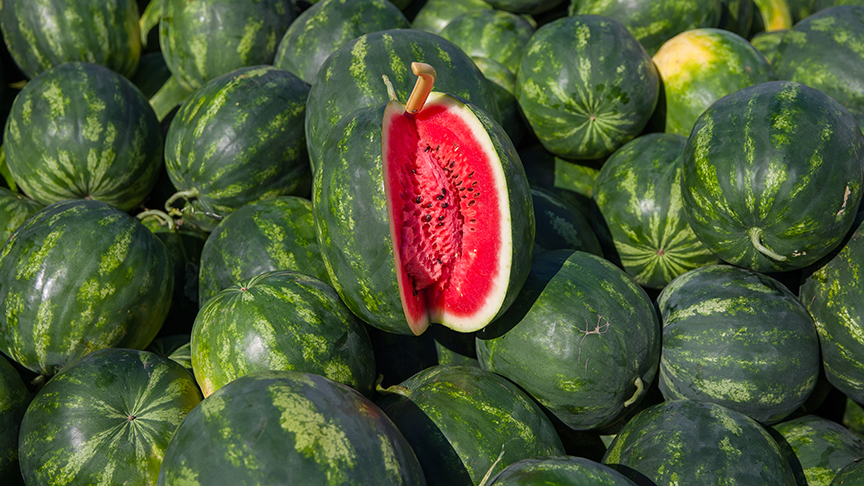Watermelon: (314, 92, 534, 344), (683, 81, 860, 277), (1, 200, 174, 372), (1, 54, 165, 207), (521, 6, 665, 149)
